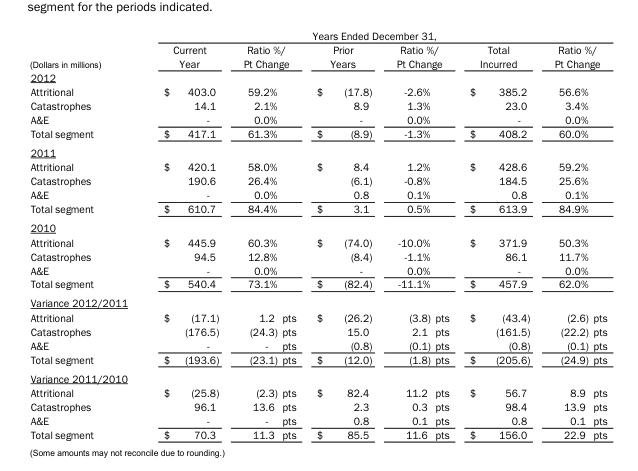table: (28, 28, 606, 440)
table column: (28, 28, 131, 440), (131, 28, 230, 440), (458, 28, 541, 440), (305, 28, 383, 440), (230, 28, 279, 440), (383, 28, 432, 440), (541, 28, 590, 440), (279, 28, 305, 440), (432, 28, 458, 440), (590, 28, 606, 440)
table column header: (28, 28, 606, 69)
table projected row header: (28, 142, 606, 159), (28, 217, 606, 234), (28, 368, 606, 385), (28, 293, 606, 309), (28, 69, 606, 84)
table row: (28, 42, 606, 69), (28, 142, 606, 159), (28, 217, 606, 234), (28, 276, 606, 293), (28, 351, 606, 368), (28, 368, 606, 385), (28, 126, 606, 142), (28, 201, 606, 217), (28, 293, 606, 309), (28, 69, 606, 84), (28, 309, 606, 324), (28, 28, 606, 42), (28, 84, 606, 98), (28, 98, 606, 112), (28, 112, 606, 126), (28, 159, 606, 173), (28, 173, 606, 187), (28, 187, 606, 201), (28, 234, 606, 248), (28, 248, 606, 262), (28, 262, 606, 276), (28, 324, 606, 338), (28, 385, 606, 399), (28, 399, 606, 413), (28, 413, 606, 427), (28, 338, 606, 351), (28, 427, 606, 440)
table spanning cell: (131, 28, 606, 42), (28, 28, 131, 69), (230, 42, 305, 69), (383, 42, 458, 69), (541, 42, 606, 69)
